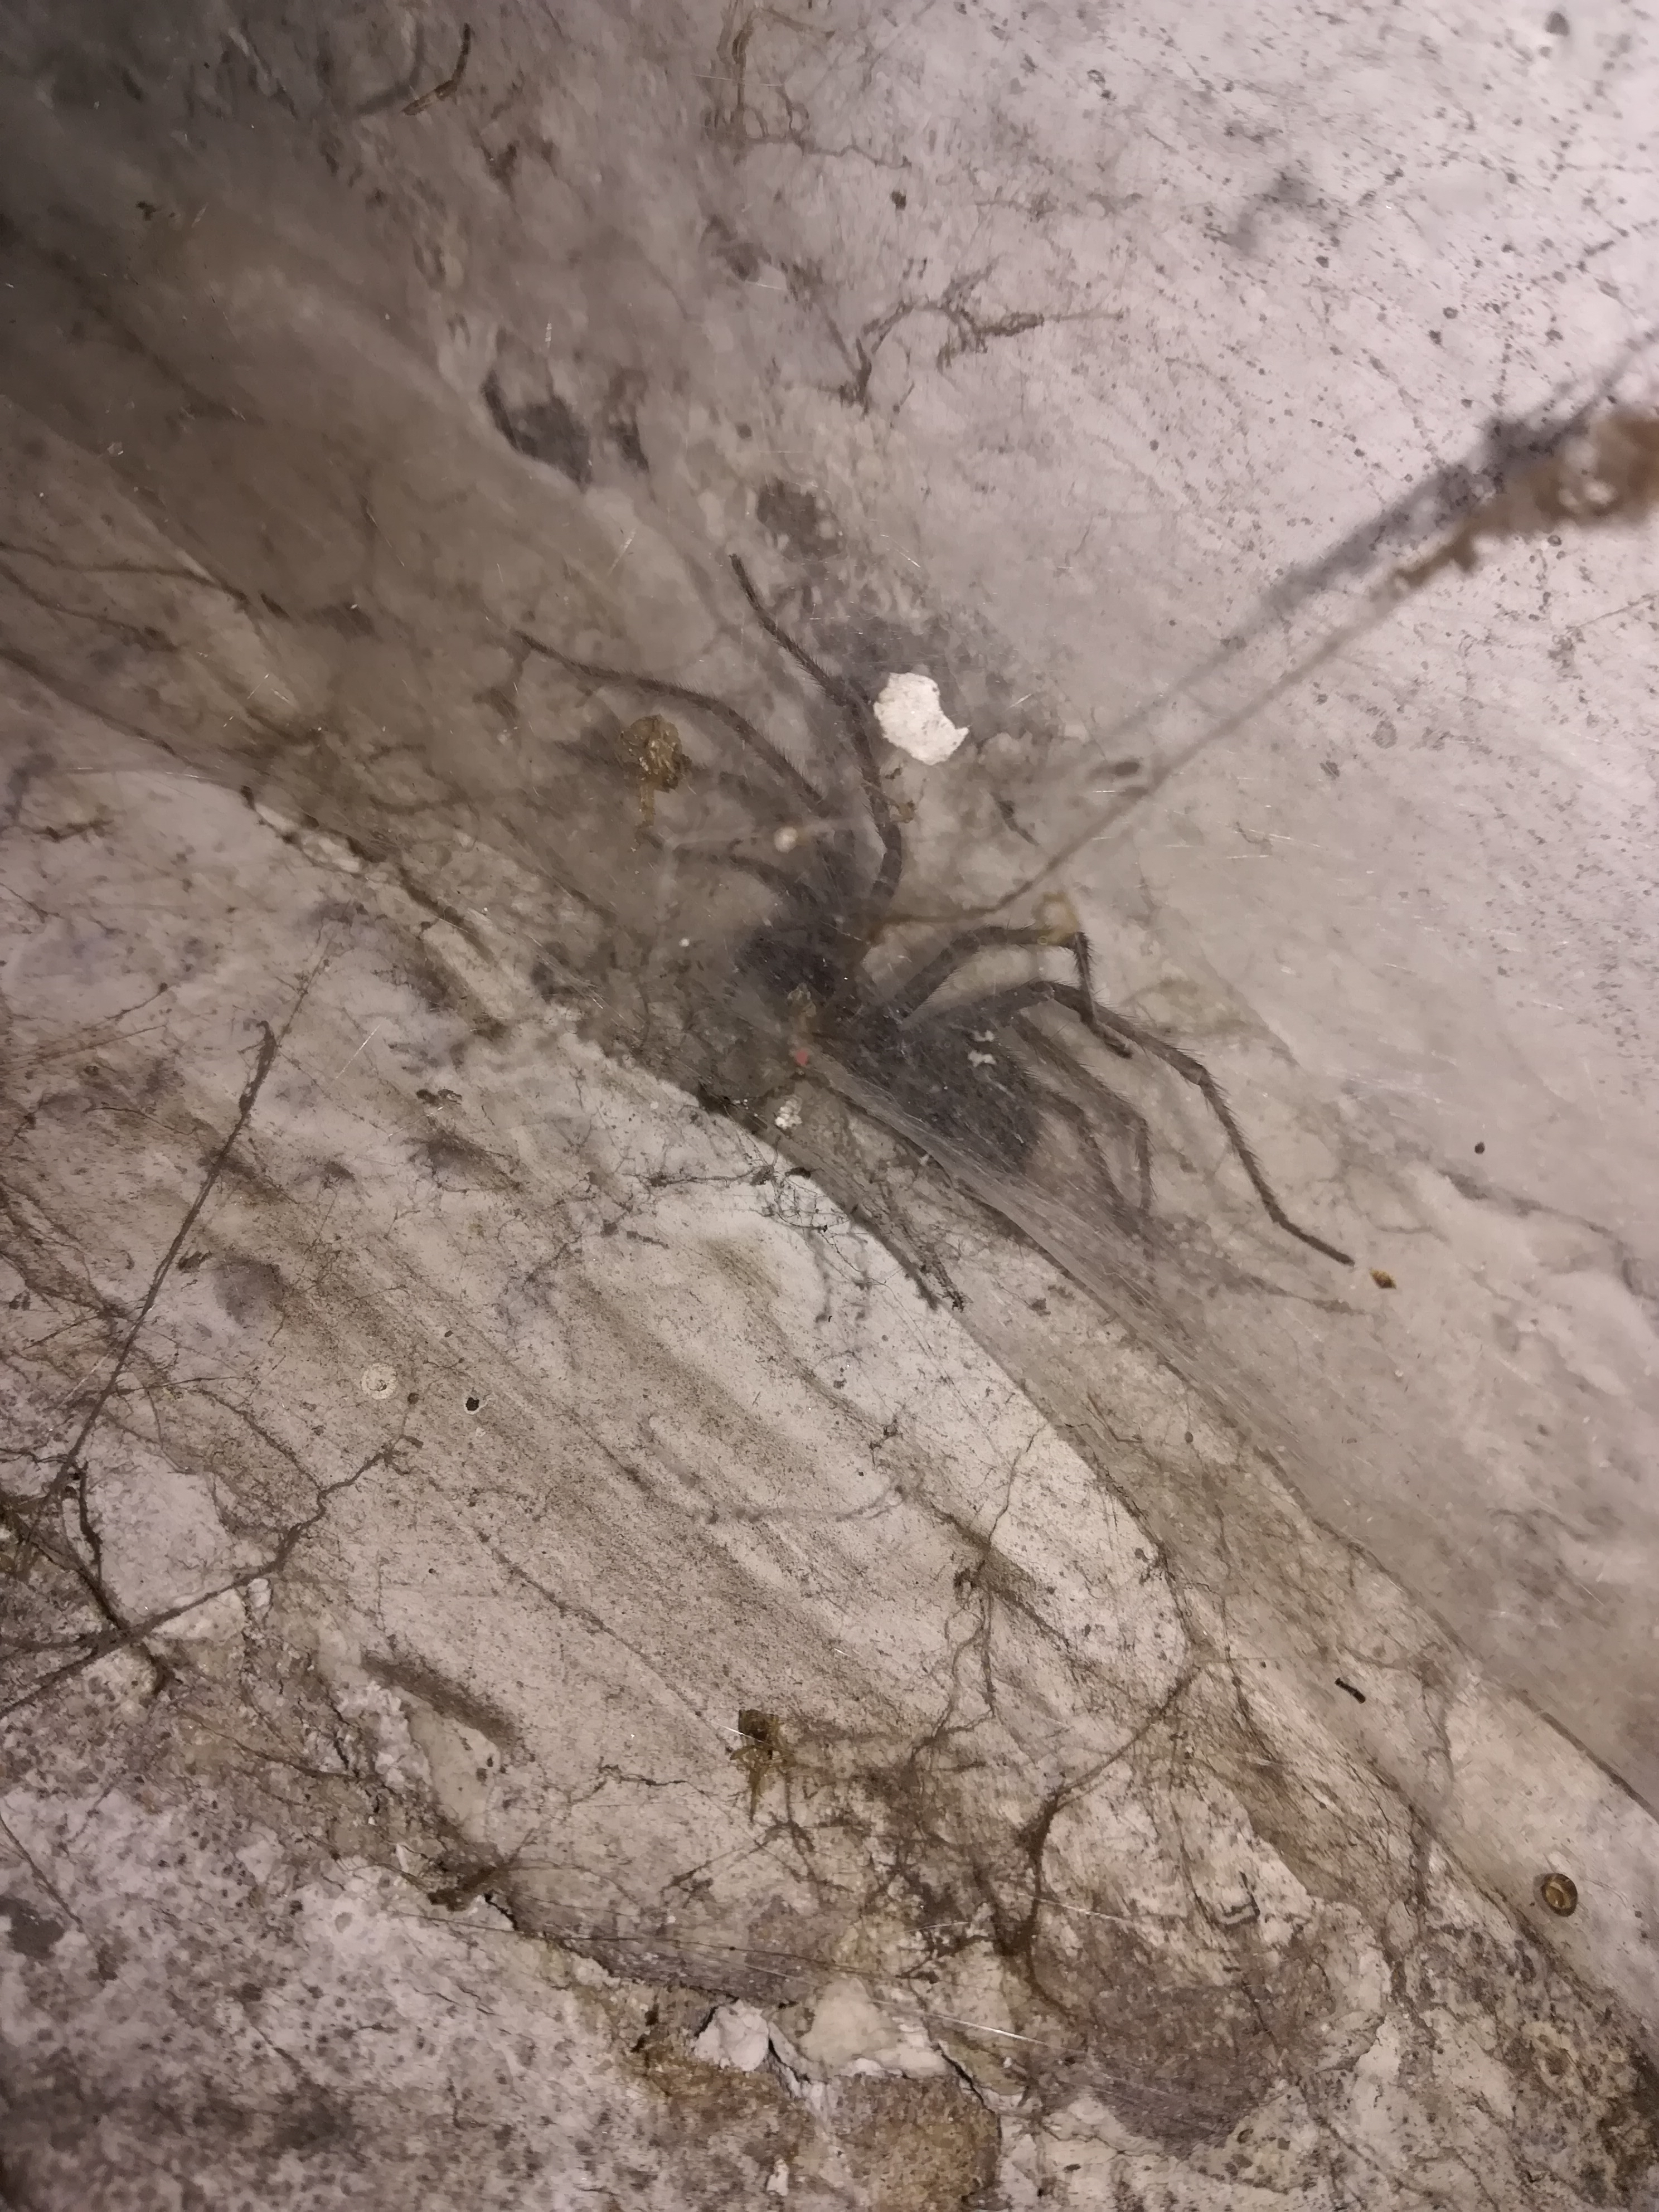spider: (471, 496, 1446, 1404)
